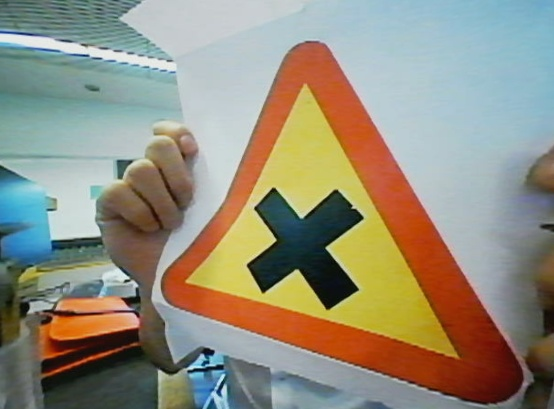junction: (172, 55, 531, 404)
